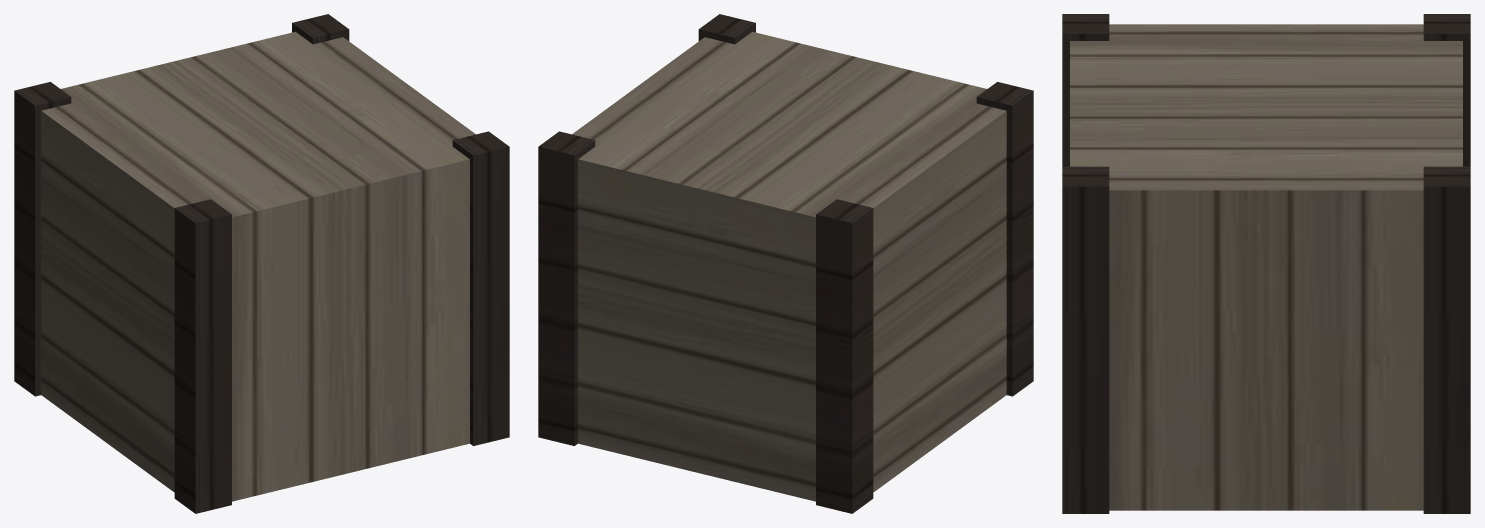
Rendered from crate_small_01.glb.
3 renders of one model, left to right at view 1: azimuth 30°, elevation 25°; view 2: azimuth 150°, elevation 25°; view 3: azimuth 270°, elevation 25°, orthographic. The views are drawn at different scales.
Parts seen in each view (by area): view 1: crate_small_01; view 2: crate_small_01; view 3: crate_small_01.
Part boxes in pixels (x1,y1,x2,y2): crate_small_01: (14, 14, 509, 513); crate_small_01: (538, 14, 1033, 513); crate_small_01: (1062, 14, 1470, 513).
Bounding box in the file's own units: 0.52 × 0.46 × 0.52.
Materials: 2 (2 with a texture image).
